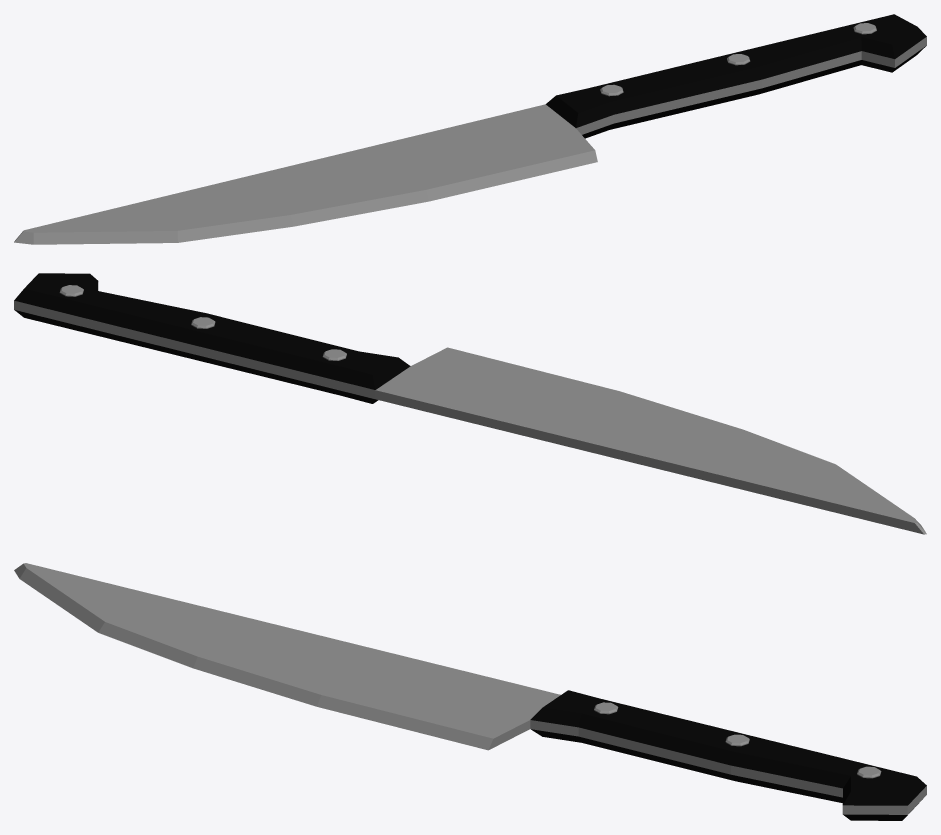
File: KitchenKnife.fbx
3 views of the same model, one above another, from view 1: azimuth 30°, elevation 25°; view 2: azimuth 150°, elevation 25°; view 3: azimuth 330°, elevation 25° (orthographic). The views are drawn at different scales.
Parts seen in each view (by area): view 1: Knife; view 2: Knife; view 3: Knife.
Boxes of the visible parts, left/top/right/bottom form: Knife: left=14, top=14, right=926, bottom=244; Knife: left=14, top=273, right=926, bottom=534; Knife: left=14, top=563, right=926, bottom=820.
Size of the model in its own units: 632 by 22.13 by 79.72.
1 material, 1 textured.
